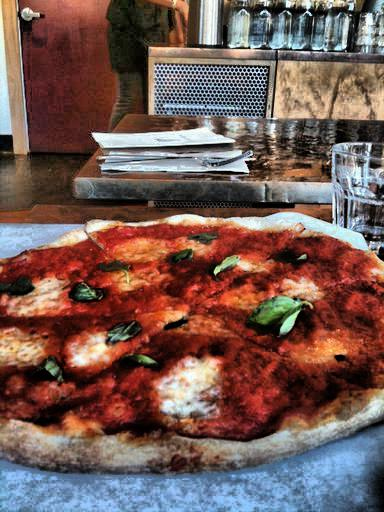pizza: (4, 220, 384, 474)
